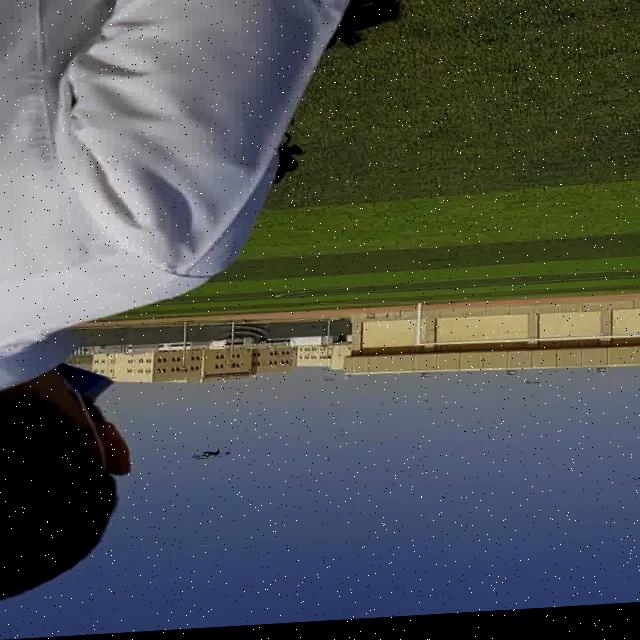drone: (182, 447, 240, 465)
